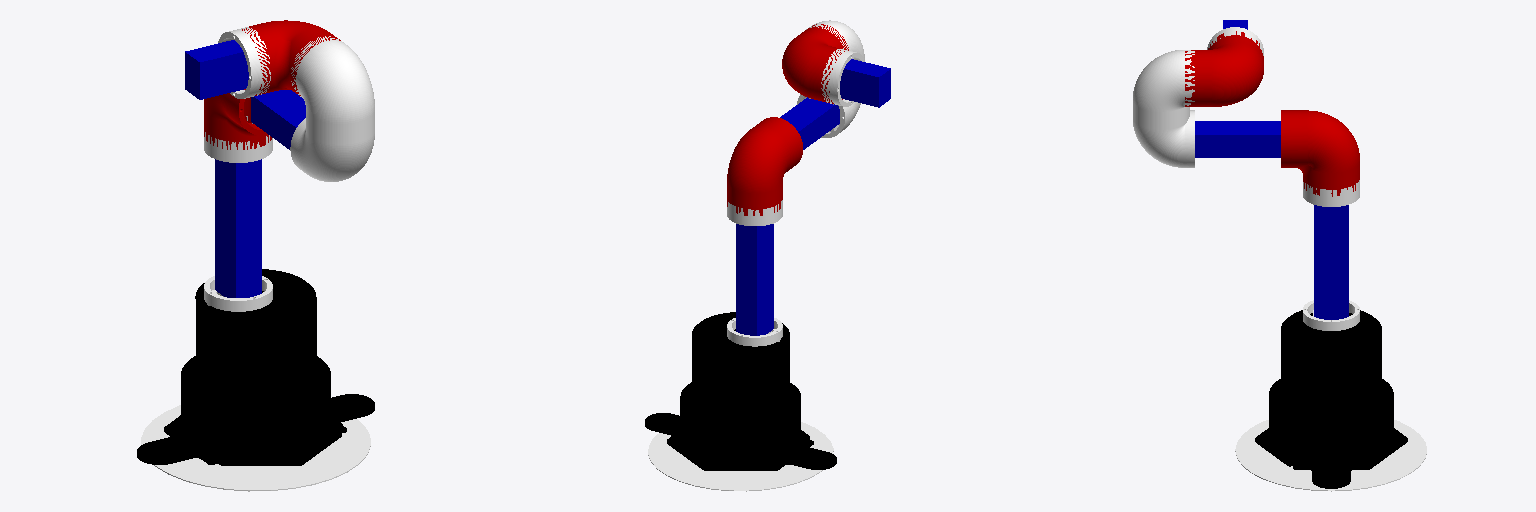
URDF robot description (test):
<?xml version="1.0"?>
<robot  name="test" >
 <material  name="blue" >
  <color  rgba="0 0 0.8 1.0" />
 </material>
 <material  name="red" >
  <color  rgba="0.8 0 0 1.0" />
 </material>
 <material  name="white" >
  <color  rgba="1.0 1.0 1.0 0.4" />
 </material>
 <material  name="black" >
  <color  rgba="0.0 0.0 0.0 1.0" />
 </material>
 <link  name="root_mod" >
  <visual >
   <origin  rpy="0 0 0"  xyz="0 0 0" />
   <material  name="white" />
   <geometry >
    <cylinder  radius="0.1"  length="0.001" />
   </geometry>
  </visual>
 </link>
 <link  name="connMod_1" >
  <inertial >
   <origin  rpy="1.5707963267948963 0.0 0.0"  xyz="0.0 1.2212453270876722e-17 0.055" />
   <mass  value="1.245" />
   <inertia  iyz="1.5e-05"  ixy="-0.0"  izz="0.003107"  ixz="-0.0"  iyy="0.002417"  ixx="0.002797" />
  </inertial>
  <visual >
   <origin  rpy="1.5707963267948963 0.0 0.0"  xyz="0.0 1.2212453270876722e-17 0.055" />
   <material  name="black" />
   <geometry >
    <mesh  filename="./meshes/base-big-360.obj"  scale="0.001 0.001 0.001" />
   </geometry>
  </visual>
 </link>
 <joint  name="joint_1_fixed"  type="fixed" >
  <parent  link="root_mod" />
  <child  link="connMod_1" />
  <origin  rpy="0 0 0"  xyz="0.0 0.0 0.01" />
  <limit  lower="-3.14"  velocity="10"  effort="50"  upper="3.14" />
 </joint>
 <link  name="connMod_2" >
  <inertial >
   <origin  rpy="-0.0 1.5707963267948966 0.0"  xyz="-1.3766765505351941e-17 0.0 0.062" />
   <mass  value="0.032" />
   <inertia  iyz="0.0"  ixy="0.0"  izz="1.2e-05"  ixz="0.0"  iyy="1.1e-05"  ixx="2.1e-05" />
  </inertial>
  <visual >
   <origin  rpy="-0.0 1.5707963267948966 0.0"  xyz="-1.3766765505351941e-17 0.0 0.062" />
   <material  name="white" />
   <geometry >
    <mesh  filename="./meshes/connector-0.obj"  scale="0.001 0.001 0.001" />
   </geometry>
  </visual>
 </link>
 <joint  name="joint_2_revolute"  type="revolute" >
  <parent  link="connMod_1" />
  <child  link="connMod_2" />
  <origin  rpy="0 0 0"  xyz="-0.0175 2.964295475749168e-17 0.1335" />
  <axis  xyz="0.0 0.0 1.0" />
  <limit  lower="-3.14"  velocity="10"  effort="50"  upper="3.14" />
 </joint>
 <transmission  name="act_joint_2_revolute" >
  <type  xmltext="SimpleTransmission" >
   SimpleTransmission
  </type>
  <actuator  name="trans_joint_2_revolute" >
   <mechanicalreduction  xmltext="1" >
    1
   </mechanicalreduction>
  </actuator>
  <joint  name="joint_2_revolute" />
 </transmission>
 <link  name="linkMod_3" >
  <inertial >
   <origin  rpy="0.0 -1.5707963267948966 0.0"  xyz="-1.3766765505351941e-17 0.0 -0.062" />
   <mass  value="0.167" />
   <inertia  iyz="0.0"  ixy="0.0"  izz="0.000331"  ixz="0.0"  iyy="0.000322"  ixx="2.7e-05" />
  </inertial>
  <visual >
   <origin  rpy="0.0 -1.5707963267948966 0.0"  xyz="-1.3766765505351941e-17 0.0 -0.062" />
   <material  name="blue" />
   <geometry >
    <mesh  filename="./meshes/link-150.obj"  scale="0.001 0.001 0.001" />
   </geometry>
  </visual>
 </link>
 <joint  name="joint_3_revolute"  type="revolute" >
  <parent  link="connMod_2" />
  <child  link="linkMod_3" />
  <origin  rpy="0 0 0"  xyz="-4.44089209850063e-19 0.0 0.0020000000000000018" />
  <axis  xyz="-0.0 0.0 1.0" />
  <limit  lower="-3.14"  velocity="10"  effort="50"  upper="3.14" />
 </joint>
 <transmission  name="act_joint_3_revolute" >
  <type  xmltext="SimpleTransmission" >
   SimpleTransmission
  </type>
  <actuator  name="trans_joint_3_revolute" >
   <mechanicalreduction  xmltext="1" >
    1
   </mechanicalreduction>
  </actuator>
  <joint  name="joint_3_revolute" />
 </transmission>
 <link  name="connMod_4" >
  <inertial >
   <origin  rpy="-0.0 1.5707963267948966 0.0"  xyz="-1.3766765505351941e-17 0.0 0.062" />
   <mass  value="0.032" />
   <inertia  iyz="0.0"  ixy="0.0"  izz="1.2e-05"  ixz="0.0"  iyy="1.1e-05"  ixx="2.1e-05" />
  </inertial>
  <visual >
   <origin  rpy="-0.0 1.5707963267948966 0.0"  xyz="-1.3766765505351941e-17 0.0 0.062" />
   <material  name="white" />
   <geometry >
    <mesh  filename="./meshes/connector-0.obj"  scale="0.001 0.001 0.001" />
   </geometry>
  </visual>
 </link>
 <joint  name="joint_4_revolute"  type="revolute" >
  <parent  link="linkMod_3" />
  <child  link="connMod_4" />
  <origin  rpy="0 0 0"  xyz="3.3306690738754695e-17 0.0 0.15" />
  <axis  xyz="0.0 0.0 1.0" />
  <limit  lower="-3.14"  velocity="10"  effort="50"  upper="3.14" />
 </joint>
 <transmission  name="act_joint_4_revolute" >
  <type  xmltext="SimpleTransmission" >
   SimpleTransmission
  </type>
  <actuator  name="trans_joint_4_revolute" >
   <mechanicalreduction  xmltext="1" >
    1
   </mechanicalreduction>
  </actuator>
  <joint  name="joint_4_revolute" />
 </transmission>
 <link  name="jointMod_5" >
  <inertial >
   <origin  rpy="-0.0 1.5707963267948966 0.0"  xyz="-1.1546319456101627e-17 0.0 0.052" />
   <mass  value="0.184" />
   <inertia  iyz="0.0"  ixy="-1.3e-05"  izz="9e-05"  ixz="-0.0"  iyy="7.8e-05"  ixx="7.8e-05" />
  </inertial>
  <visual >
   <origin  rpy="-0.0 1.5707963267948966 0.0"  xyz="-1.1546319456101627e-17 0.0 0.052" />
   <material  name="red" />
   <geometry >
    <mesh  filename="./meshes/90-joint.obj"  scale="0.001 0.001 0.001" />
   </geometry>
  </visual>
 </link>
 <joint  name="joint_5_fixed"  type="fixed" >
  <parent  link="connMod_4" />
  <child  link="jointMod_5" />
  <origin  rpy="0 0 0"  xyz="-4.44089209850063e-19 0.0 0.0020000000000000018" />
  <axis  xyz="-0.0 0.0 1.0" />
  <limit  lower="-3.14"  velocity="10"  effort="50"  upper="3.14" />
 </joint>
 <link  name="linkMod_6" >
  <inertial >
   <origin  rpy="0.0 0.0 -1.5707963267948963"  xyz="-1.3766765505351941e-17 0.062 0.0" />
   <mass  value="0.05" />
   <inertia  iyz="0.0"  ixy="0.0"  izz="0.000206"  ixz="0.0"  iyy="0.000206"  ixx="6.5e-05" />
  </inertial>
  <visual >
   <origin  rpy="0.0 0.0 -1.5707963267948963"  xyz="-1.3766765505351941e-17 0.062 0.0" />
   <material  name="blue" />
   <geometry >
    <mesh  filename="./meshes/link-100.obj"  scale="0.001 0.001 0.001" />
   </geometry>
  </visual>
 </link>
 <joint  name="joint_6_revolute"  type="revolute" >
  <parent  link="jointMod_5" />
  <child  link="linkMod_6" />
  <origin  rpy="0 0 0"  xyz="-1.1546319456101627e-17 -0.052 0.052" />
  <axis  xyz="0.0 -1.0 0.0" />
  <limit  lower="-3.14"  velocity="10"  effort="50"  upper="3.14" />
 </joint>
 <transmission  name="act_joint_6_revolute" >
  <type  xmltext="SimpleTransmission" >
   SimpleTransmission
  </type>
  <actuator  name="trans_joint_6_revolute" >
   <mechanicalreduction  xmltext="1" >
    1
   </mechanicalreduction>
  </actuator>
  <joint  name="joint_6_revolute" />
 </transmission>
 <link  name="connMod_7" >
  <inertial >
   <origin  rpy="-1.5707963267948963 0.0 0.0"  xyz="0.0 -0.02500000000000001 0.034999999999999996" />
   <mass  value="0.423" />
   <inertia  iyz="3e-06"  ixy="0.0"  izz="0.000522"  ixz="0.0"  iyy="0.000198"  ixx="0.000524" />
  </inertial>
  <visual >
   <origin  rpy="-1.5707963267948963 0.0 0.0"  xyz="0.0 -0.02500000000000001 0.034999999999999996" />
   <material  name="white" />
   <geometry >
    <mesh  filename="./meshes/180-connector-2.obj"  scale="0.001 0.001 0.001" />
   </geometry>
  </visual>
 </link>
 <joint  name="joint_7_revolute"  type="revolute" >
  <parent  link="linkMod_6" />
  <child  link="connMod_7" />
  <origin  rpy="0 0 0"  xyz="2.2204460492503132e-17 -0.1 0.0" />
  <axis  xyz="0.0 -1.0 0.0" />
  <limit  lower="-3.14"  velocity="10"  effort="50"  upper="3.14" />
 </joint>
 <transmission  name="act_joint_7_revolute" >
  <type  xmltext="SimpleTransmission" >
   SimpleTransmission
  </type>
  <actuator  name="trans_joint_7_revolute" >
   <mechanicalreduction  xmltext="1" >
    1
   </mechanicalreduction>
  </actuator>
  <joint  name="joint_7_revolute" />
 </transmission>
 <link  name="jointMod_8" >
  <inertial >
   <origin  rpy="0.0 0.0 -1.5707963267948963"  xyz="-1.1546319456101627e-17 0.052 0.0" />
   <mass  value="0.184" />
   <inertia  iyz="0.0"  ixy="-1.3e-05"  izz="9e-05"  ixz="-0.0"  iyy="7.8e-05"  ixx="7.8e-05" />
  </inertial>
  <visual >
   <origin  rpy="0.0 0.0 -1.5707963267948963"  xyz="-1.1546319456101627e-17 0.052 0.0" />
   <material  name="red" />
   <geometry >
    <mesh  filename="./meshes/90-joint.obj"  scale="0.001 0.001 0.001" />
   </geometry>
  </visual>
 </link>
 <joint  name="joint_8_fixed"  type="fixed" >
  <parent  link="connMod_7" />
  <child  link="jointMod_8" />
  <origin  rpy="0 0 0"  xyz="0.0 -1.3877787807814457e-17 0.07" />
  <axis  xyz="0.0 1.0 0.0" />
  <limit  lower="-3.14"  velocity="10"  effort="50"  upper="3.14" />
 </joint>
 <link  name="connMod_9" >
  <inertial >
   <origin  rpy="0.0 0.0 0.0"  xyz="-0.062 0.0 0.0" />
   <mass  value="0.032" />
   <inertia  iyz="0.0"  ixy="0.0"  izz="1.2e-05"  ixz="0.0"  iyy="1.1e-05"  ixx="2.1e-05" />
  </inertial>
  <visual >
   <origin  rpy="0.0 0.0 0.0"  xyz="-0.062 0.0 0.0" />
   <material  name="white" />
   <geometry >
    <mesh  filename="./meshes/connector-0.obj"  scale="0.001 0.001 0.001" />
   </geometry>
  </visual>
 </link>
 <joint  name="joint_9_revolute"  type="revolute" >
  <parent  link="jointMod_8" />
  <child  link="connMod_9" />
  <origin  rpy="0 0 0"  xyz="-0.05200000000000001 0.051999999999999984 0.0" />
  <axis  xyz="-1.0 -0.0 0.0" />
  <limit  lower="-3.14"  velocity="10"  effort="50"  upper="3.14" />
 </joint>
 <transmission  name="act_joint_9_revolute" >
  <type  xmltext="SimpleTransmission" >
   SimpleTransmission
  </type>
  <actuator  name="trans_joint_9_revolute" >
   <mechanicalreduction  xmltext="1" >
    1
   </mechanicalreduction>
  </actuator>
  <joint  name="joint_9_revolute" />
 </transmission>
 <link  name="linkMod_10" >
  <inertial >
   <origin  rpy="1.5707963240855651 -1.2497703982816688e-08 -3.141592641092089"  xyz="0.06199999999999997 7.748576576602542e-10 -7.74857655560908e-10" />
   <mass  value="0.05" />
   <inertia  iyz="0.0"  ixy="0.0"  izz="1.6e-05"  ixz="0.0"  iyy="1.3e-05"  ixx="8e-06" />
  </inertial>
  <visual >
   <origin  rpy="1.5707963240855651 -1.2497703982816688e-08 -3.141592641092089"  xyz="0.06199999999999997 7.748576576602542e-10 -7.74857655560908e-10" />
   <material  name="blue" />
   <geometry >
    <mesh  filename="./meshes/link-50.obj"  scale="0.001 0.001 0.001" />
   </geometry>
  </visual>
 </link>
 <joint  name="joint_10_revolute"  type="revolute" >
  <parent  link="connMod_9" />
  <child  link="linkMod_10" />
  <origin  rpy="0 0 0"  xyz="-0.0020000000000000018 0.0 0.0" />
  <axis  xyz="-1.0 0.0 0.0" />
  <limit  lower="-3.14"  velocity="10"  effort="50"  upper="3.14" />
 </joint>
 <transmission  name="act_joint_10_revolute" >
  <type  xmltext="SimpleTransmission" >
   SimpleTransmission
  </type>
  <actuator  name="trans_joint_10_revolute" >
   <mechanicalreduction  xmltext="1" >
    1
   </mechanicalreduction>
  </actuator>
  <joint  name="joint_10_revolute" />
 </transmission>
</robot>

--- Facts derived from the render (not from the file) ---
3 views of the same robot in one strip: view 1: azimuth 30°, elevation 25°; view 2: azimuth 150°, elevation 25°; view 3: azimuth 270°, elevation 25° (orthographic).
Model test with 11 links and 10 joints (7 revolute, 3 fixed), rooted at root_mod, posed all joints at 0.
Visible links, largest first — view 1: connMod_1, connMod_7, linkMod_3, root_mod, jointMod_8, linkMod_10, jointMod_5, linkMod_6, connMod_9, connMod_2, connMod_4; view 2: connMod_1, jointMod_5, linkMod_3, root_mod, jointMod_8, linkMod_10, linkMod_6, connMod_7, connMod_9, connMod_4, connMod_2; view 3: connMod_1, connMod_7, jointMod_5, root_mod, jointMod_8, linkMod_3, linkMod_6, connMod_2, connMod_4.
Link boxes in pixels (x1,y1,x2,y2): connMod_1: (137,269,374,465); connMod_7: (290,36,374,181); linkMod_3: (215,159,261,297); root_mod: (141,405,370,491); jointMod_8: (242,20,340,95); linkMod_10: (185,40,248,99); jointMod_5: (204,93,271,149); linkMod_6: (251,90,305,149); connMod_9: (218,27,270,98); connMod_2: (204,276,272,311); connMod_4: (204,116,272,162); connMod_1: (645,312,836,470); jointMod_5: (727,117,802,215); linkMod_3: (736,224,773,335); root_mod: (648,422,833,491); jointMod_8: (782,24,848,103); linkMod_10: (840,59,890,107); linkMod_6: (780,97,839,149); connMod_7: (797,20,864,137); connMod_9: (821,49,863,106); connMod_4: (727,200,782,225); connMod_2: (727,318,782,346); connMod_1: (1255,310,1407,488); connMod_7: (1133,50,1194,167); jointMod_5: (1281,110,1359,196); root_mod: (1235,420,1426,491); jointMod_8: (1185,31,1263,106); linkMod_3: (1314,205,1348,319); linkMod_6: (1195,121,1280,157); connMod_2: (1303,300,1359,330); connMod_4: (1303,180,1359,206).
Size in the robot's own frame: 0.2378 by 0.307 by 0.45 metres.
10 mesh visuals loaded from 7 distinct referenced files (7 OBJ).
